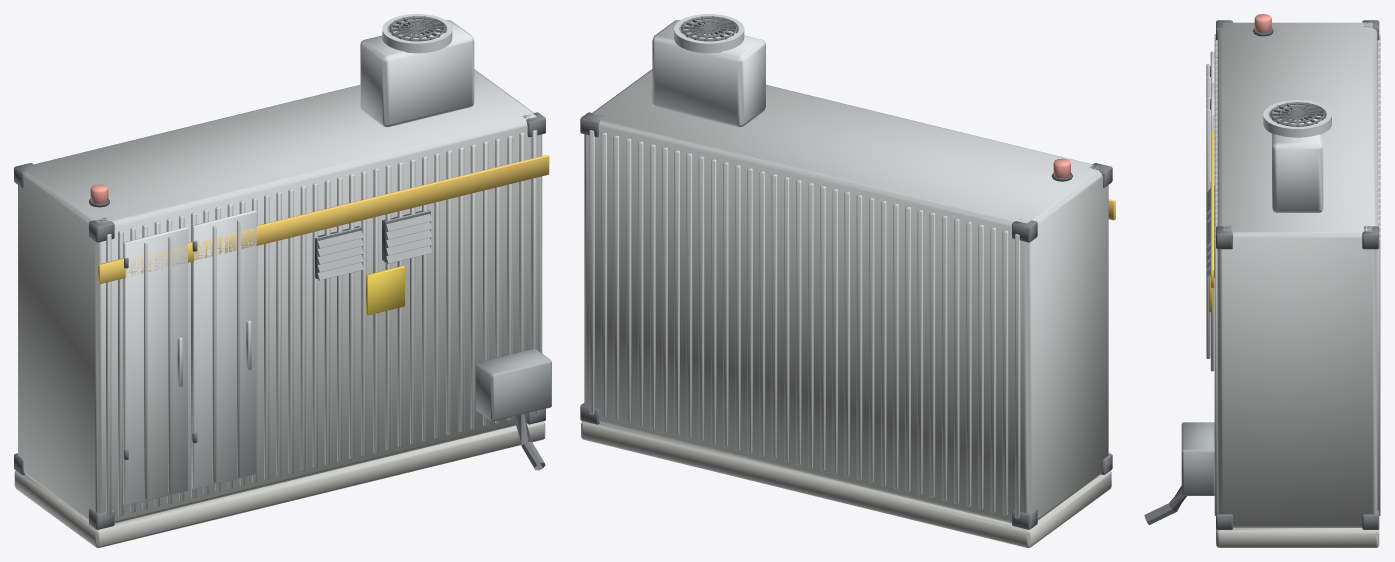
Rendered from battery_container.glb.
The picture shows the model from 3 angles, left to right: view 1: azimuth 30°, elevation 25°; view 2: azimuth 150°, elevation 25°; view 3: azimuth 270°, elevation 25°; orthographic projection. The views are drawn at different scales.
Visible parts, largest first — view 1: Body; view 2: Body; view 3: Body.
Part boxes in pixels (x1,y1,x2,y2): Body: (14, 14, 551, 547); Body: (580, 14, 1115, 547); Body: (1144, 14, 1380, 547).
Size of the model in its own units: 2.95 by 2.53 by 1.37.
